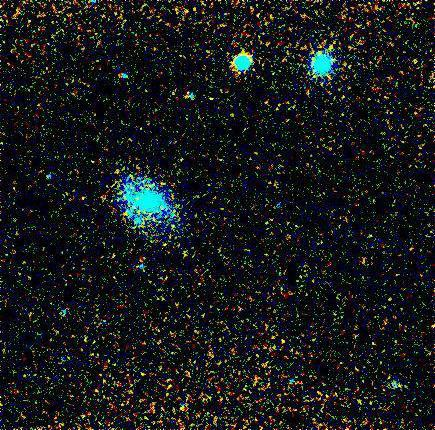star: (401, 47, 431, 77)
